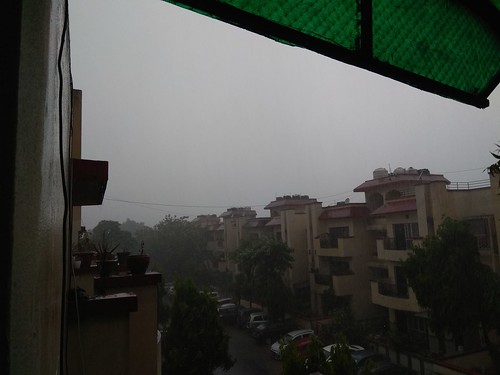building: (194, 173, 500, 375)
sky: (98, 1, 487, 209)
tree: (393, 215, 497, 358), (231, 234, 291, 316)
